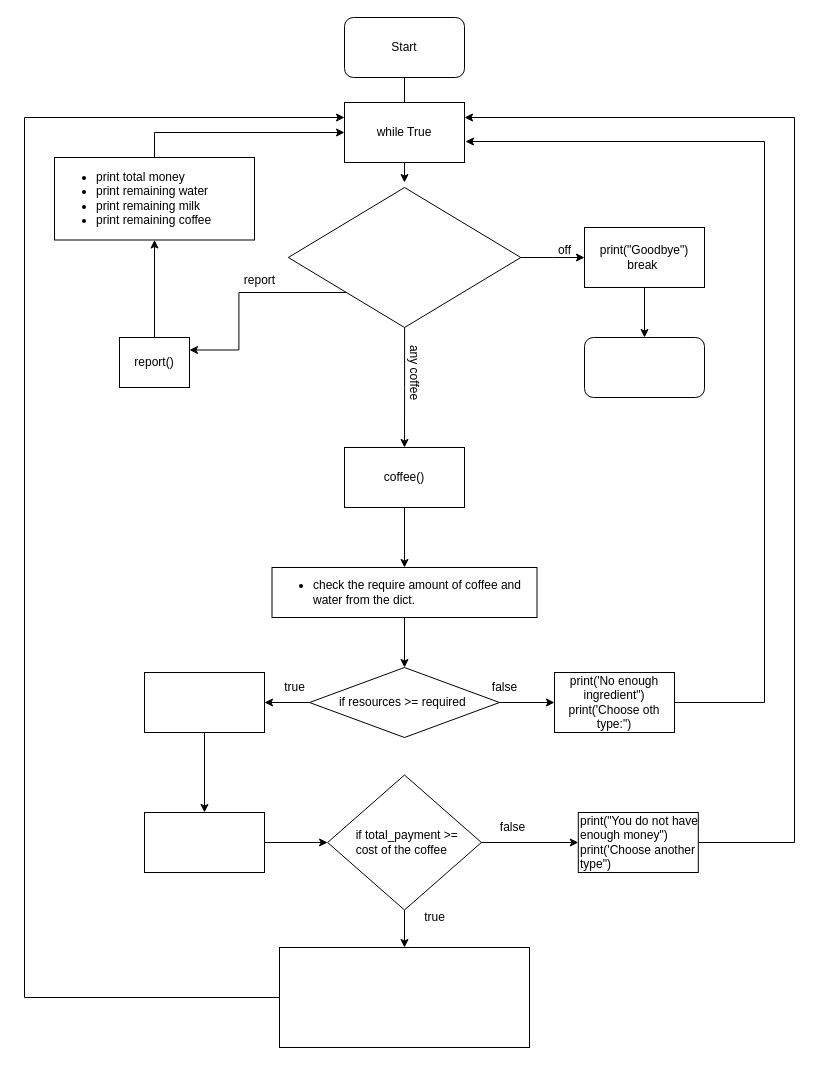
Image size: 820x1065. Some labels were removed from this diagram. The shapes that lost their labels are listed below. From the top down, each one's box as (x1, y1, x2, y2) in pixels, then its label:
(287, 186, 521, 328): coffee_type= (cappuccino or latte or espresso) or report or off
(584, 336, 704, 398): End
(144, 672, 264, 732): cash()
(144, 812, 264, 872): Ask user to insert coin calculate the coins
(278, 946, 530, 1048): calculate remaining ingredients add payment to the total cash pay the refund
